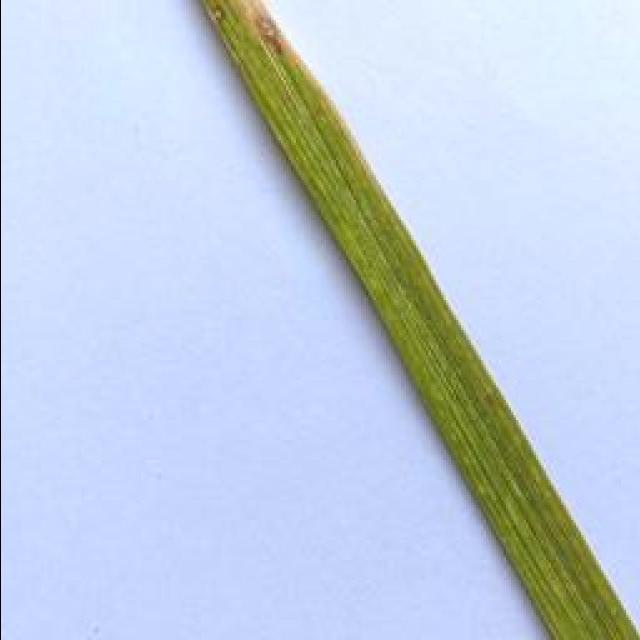Unhealthy: (227, 0, 318, 84), (211, 4, 223, 28)
